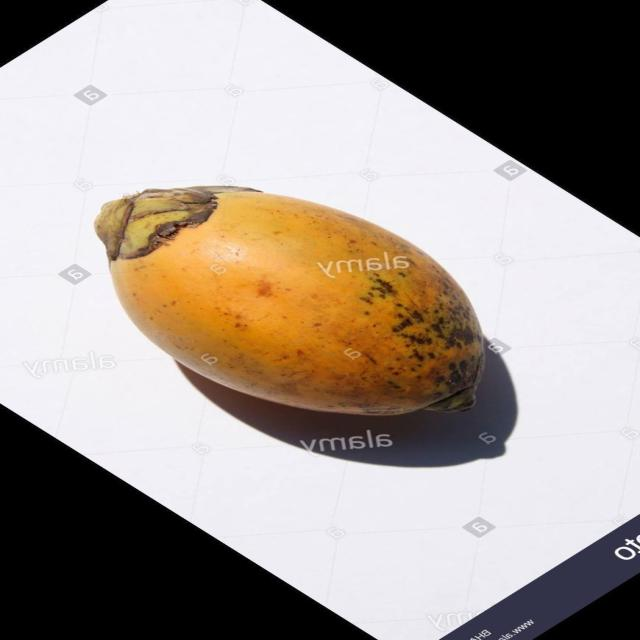good: (94, 187, 486, 418)
